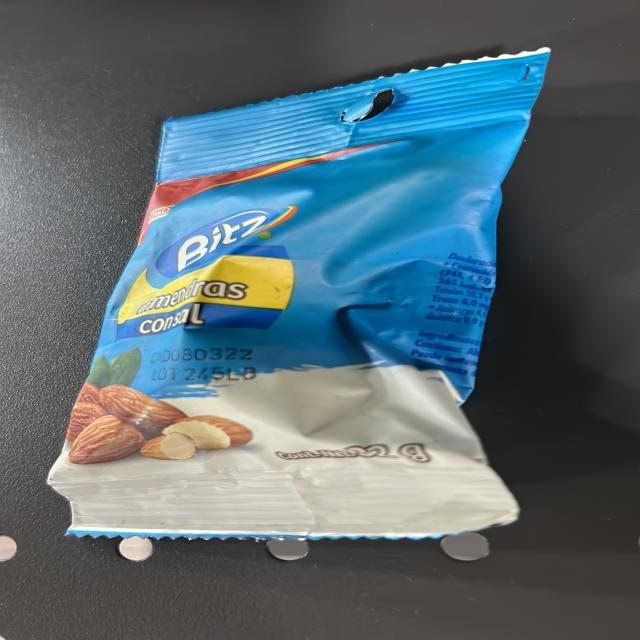bitzAlmendras: (80, 120, 470, 546)
